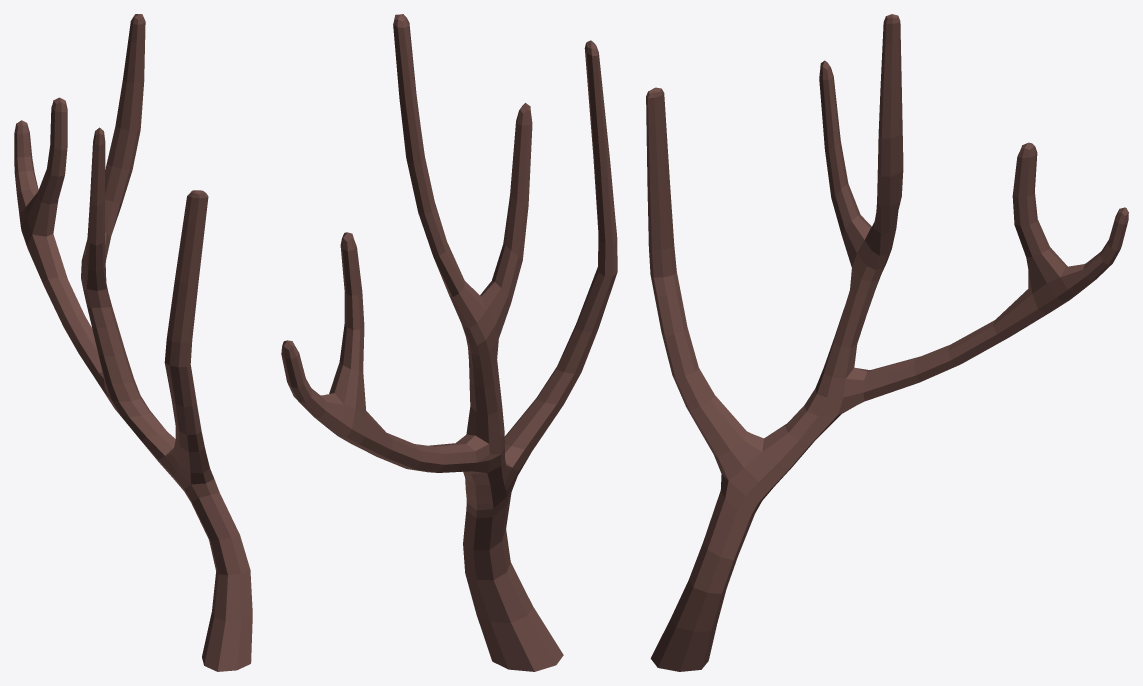
File: willow_dead_1.glb
3 renders of one model, left to right at view 1: azimuth 30°, elevation 25°; view 2: azimuth 150°, elevation 25°; view 3: azimuth 270°, elevation 25°, orthographic. The views are drawn at different scales.
Visible parts, largest first — view 1: Willow_Dead_1; view 2: Willow_Dead_1; view 3: Willow_Dead_1.
Part boxes in pixels (left/top/right/bottom): Willow_Dead_1: left=14, top=14, right=252, bottom=671; Willow_Dead_1: left=281, top=14, right=617, bottom=671; Willow_Dead_1: left=646, top=14, right=1128, bottom=671.
Size of the model in its own units: 0.4992 by 2.69 by 1.81.
